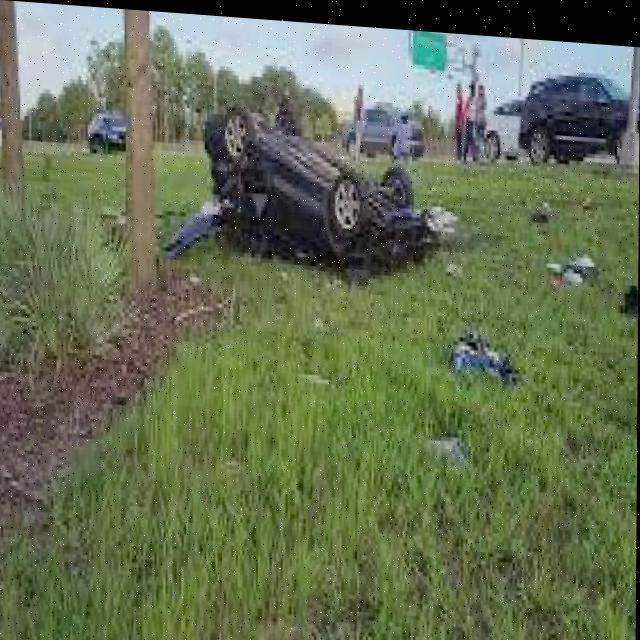single accident: (155, 42, 440, 293)
